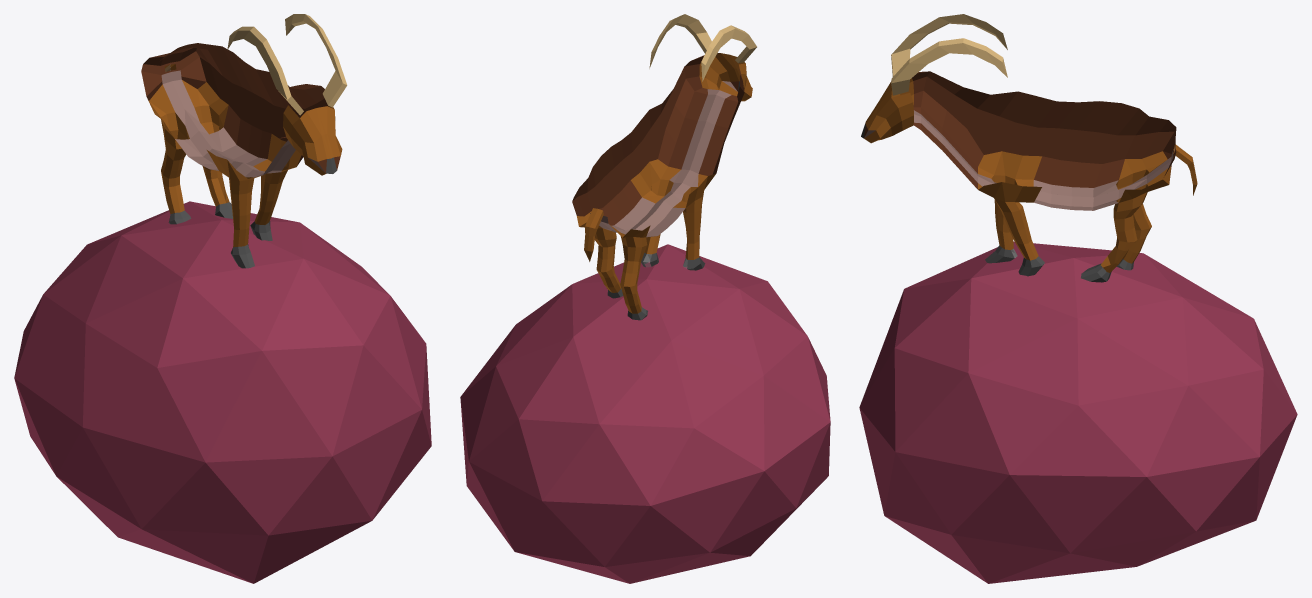
Rendered from Goat.fbx.
3 renders of one model, left to right at view 1: azimuth 30°, elevation 25°; view 2: azimuth 150°, elevation 25°; view 3: azimuth 270°, elevation 25°, orthographic. The views are drawn at different scales.
Parts seen in each view (by area): view 1: Cube; view 2: Cube; view 3: Cube.
Boxes of the visible parts, <box> form: Cube: <box>14,14,431,583</box>; Cube: <box>460,14,830,583</box>; Cube: <box>859,14,1297,583</box>.
Size of the model in its own units: 867 by 1349 by 993.
